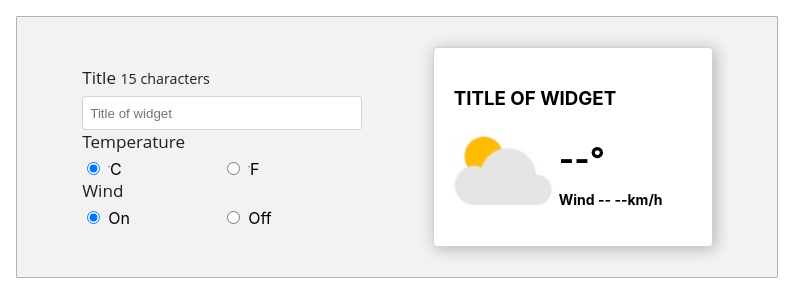
Test: renders application › should change title of the card once the input in form changes
In the field with test id "title-input": (222, 113) [82, 96, 362, 130], type "test"
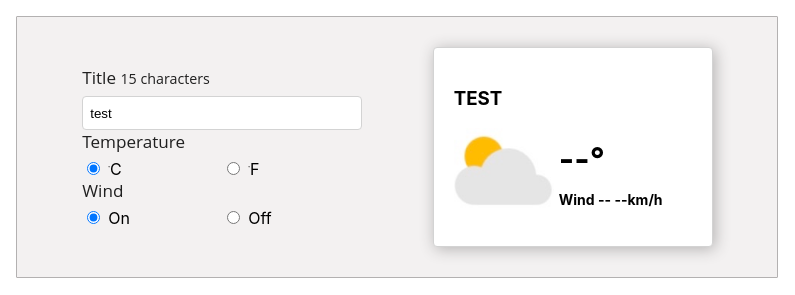
Result: the heading with test id "card-title" reads "TEST" at [454, 87, 502, 110]
